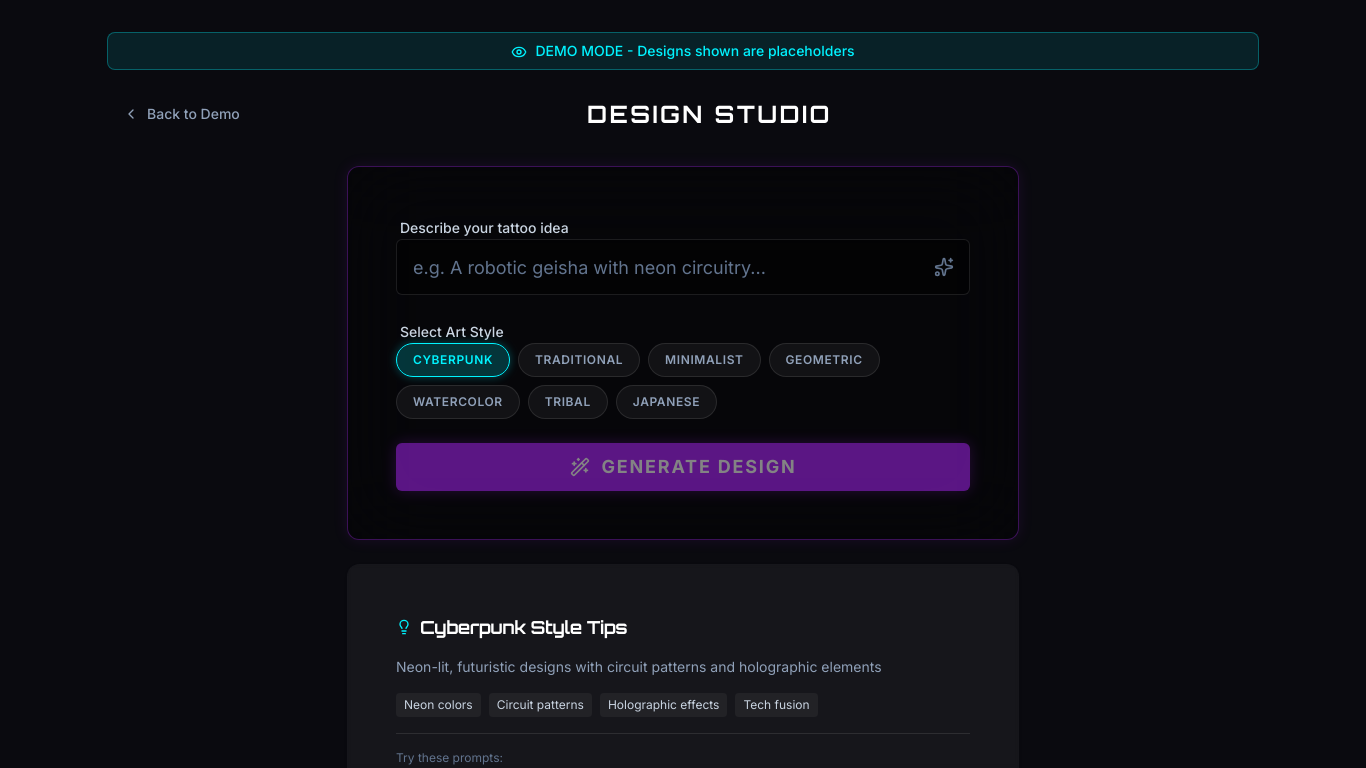
Scenario: DemoGenerator › should enable generate button when prompt is entered
Type "Test prompt" into the field with placeholder "e.g. A robotic geisha with neon circuitry..." at (683, 267), box [396,239,970,295]
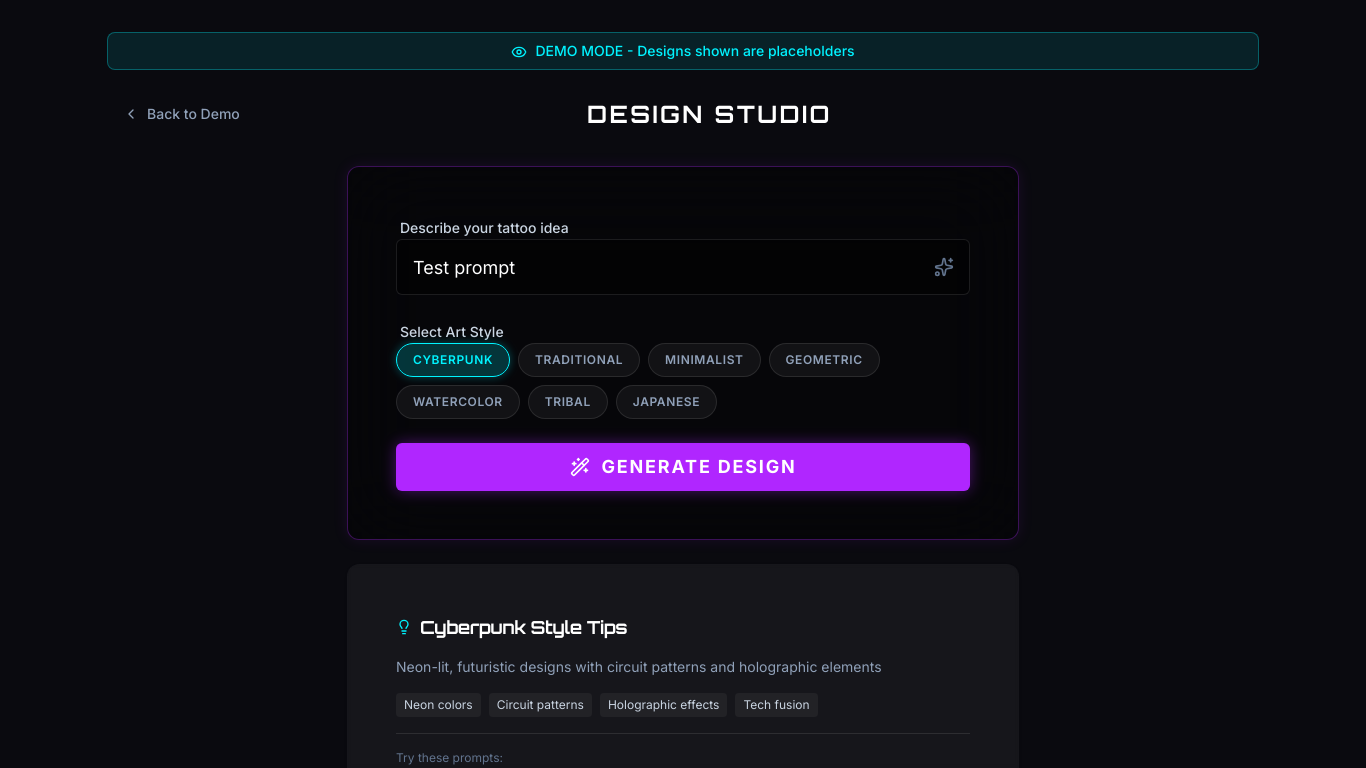
Expected: the button "GENERATE DESIGN" is enabled, [396,443,970,491]
